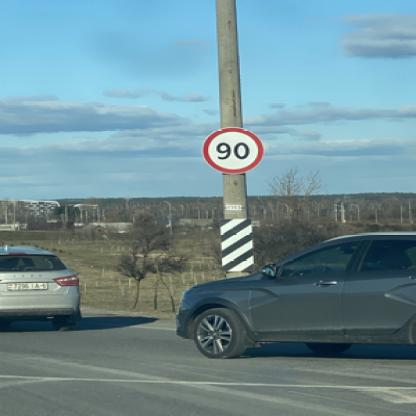speedlimit: (201, 126, 262, 172)
